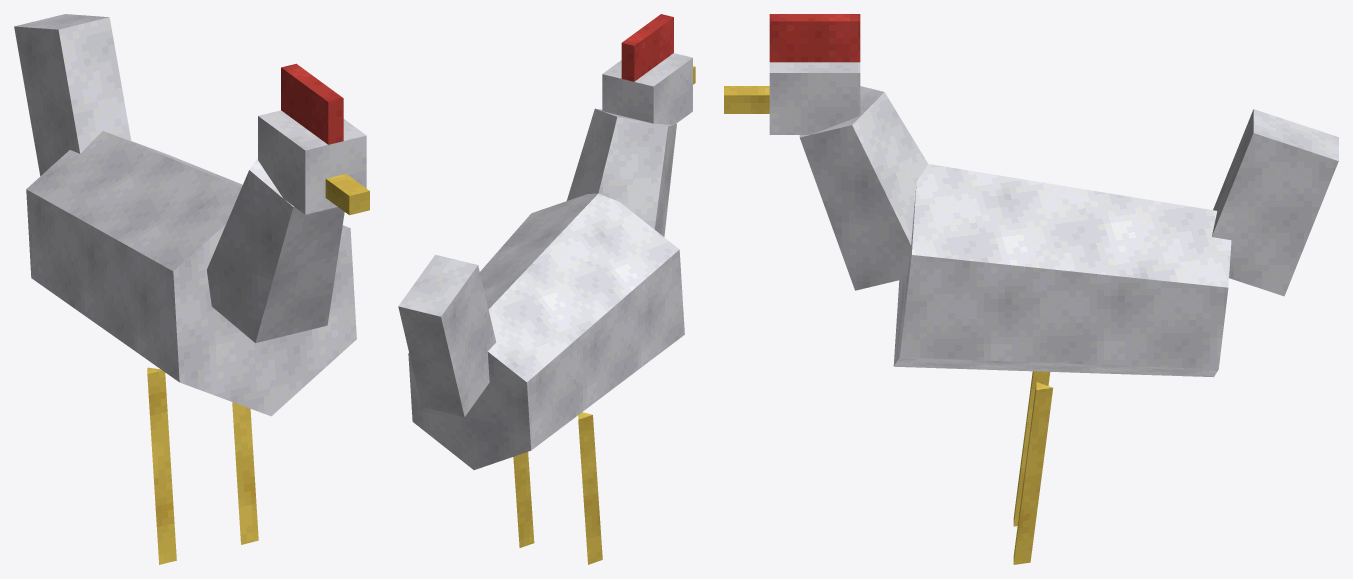
File: gallina.obj
3 renders of one model, left to right at view 1: azimuth 30°, elevation 25°; view 2: azimuth 150°, elevation 25°; view 3: azimuth 270°, elevation 25°, orthographic. The views are drawn at different scales.
Visible parts, largest first — view 1: gallina; view 2: gallina; view 3: gallina.
Part boxes in pixels (box(x1,y1,x2,y2)): gallina: box(14, 14, 369, 564); gallina: box(398, 14, 695, 564); gallina: box(724, 14, 1338, 564).
Size of the model in its own units: 0.1732 by 0.5112 by 0.5415.
Materials: 3 (3 with a texture image).
